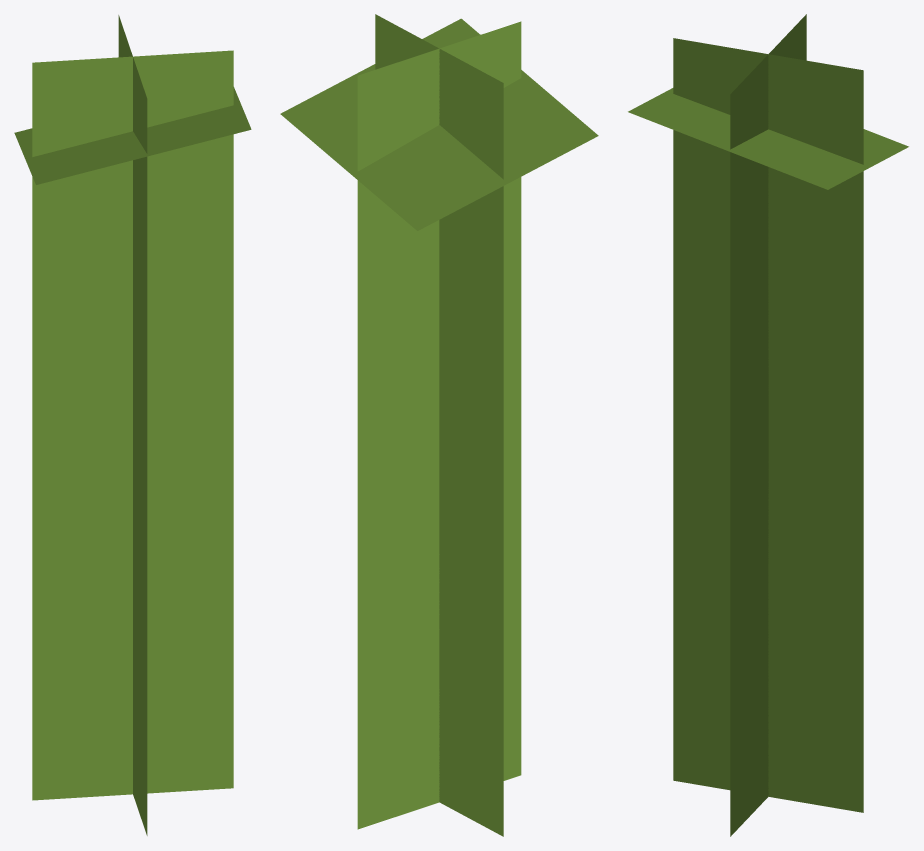
Rendered from wildflower_single_b.glb.
3 views of the same model, side by side, from view 1: azimuth 30°, elevation 25°; view 2: azimuth 150°, elevation 25°; view 3: azimuth 270°, elevation 25° (orthographic). The views are drawn at different scales.
Visible parts, largest first — view 1: wildflower_single_b_lod0; view 2: wildflower_single_b_lod0; view 3: wildflower_single_b_lod0.
Boxes of the visible parts, x1,y1,x2,y2 form: wildflower_single_b_lod0: (14,15,251,835); wildflower_single_b_lod0: (280,14,598,836); wildflower_single_b_lod0: (628,14,908,836).
Size of what is drawn, in the model's own units: 0.3409 by 0.95 by 0.3269.
